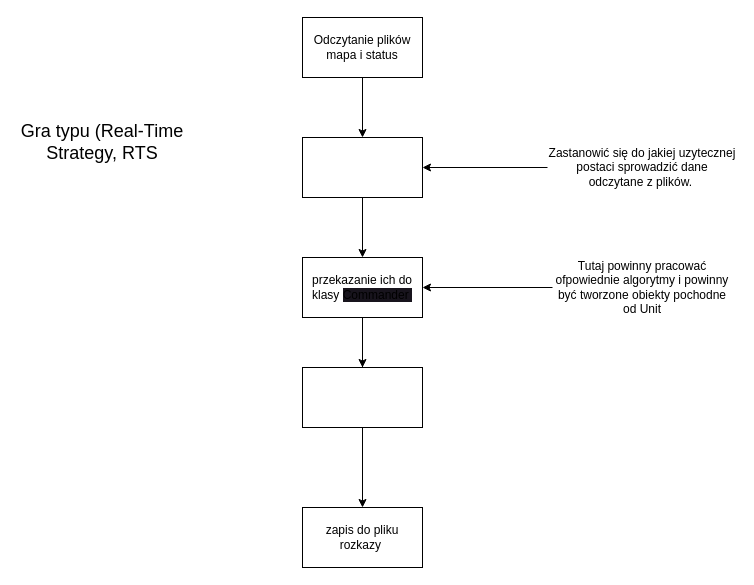
This 754x585 diagram has some shape labels left out. Here are the shapes that lost their labels. From the top down, the centre of each, then its label:
(x=362, y=167): sparsowanie ich
(x=362, y=397): Walidacja rozkazów
